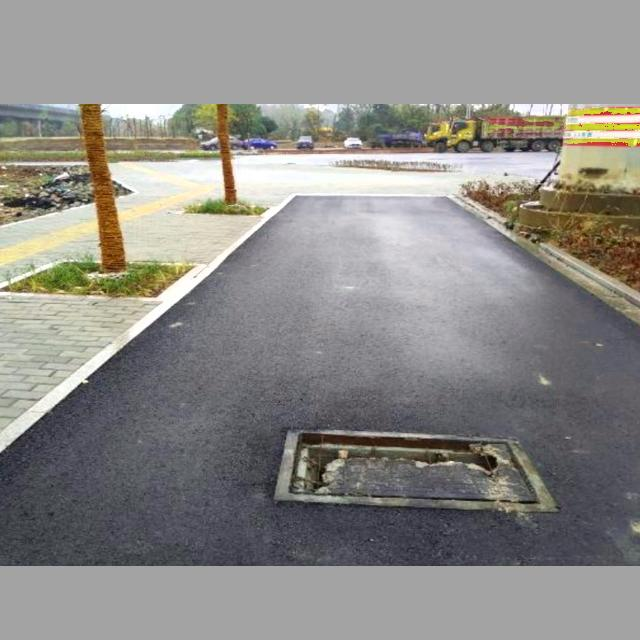broke: (272, 426, 559, 512)
